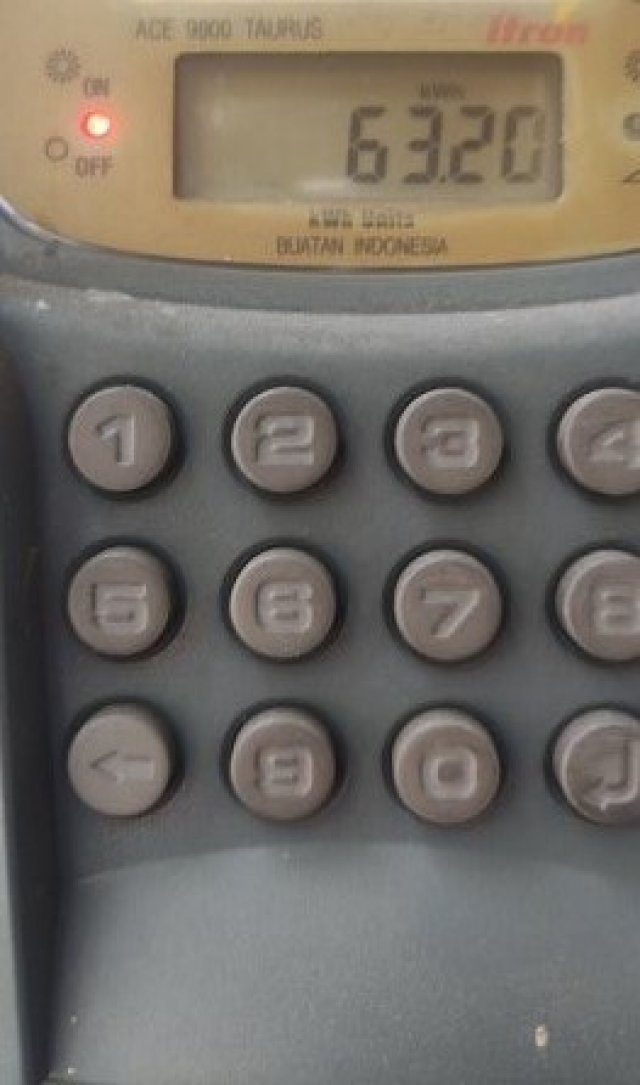box: (177, 53, 561, 197)
